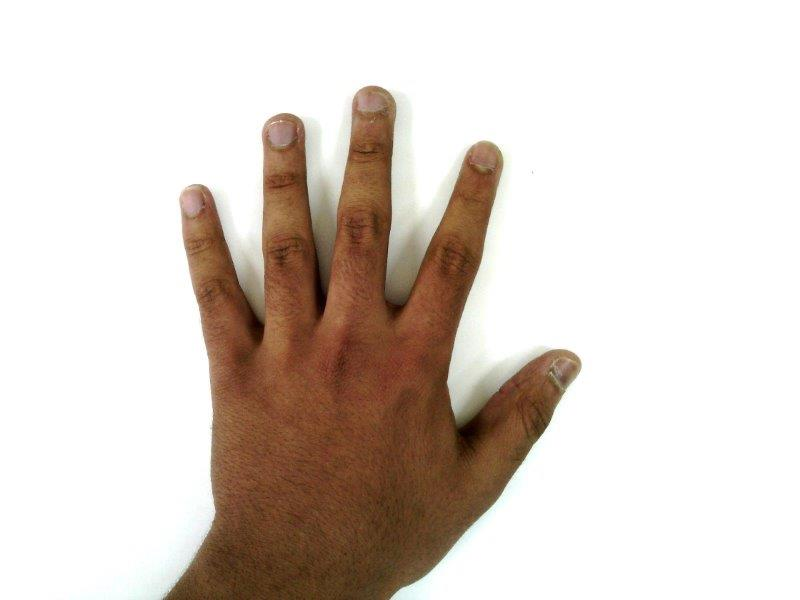hand: (180, 85, 581, 557)
